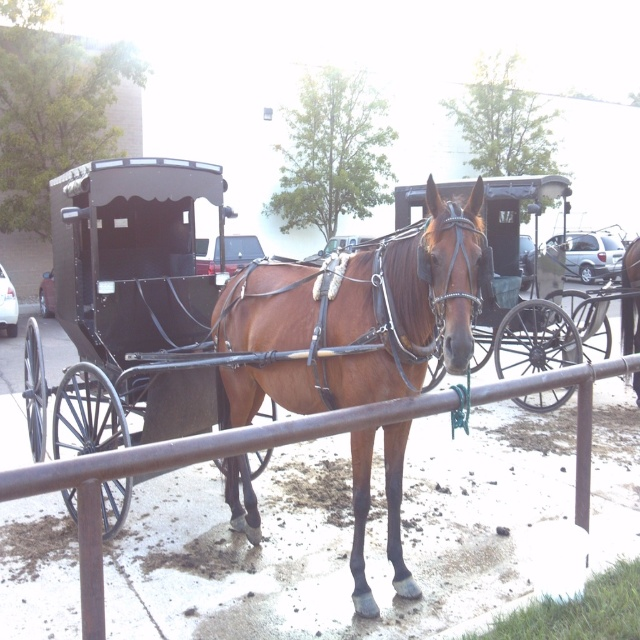Horse: (211, 173, 485, 616), (620, 236, 640, 408)
